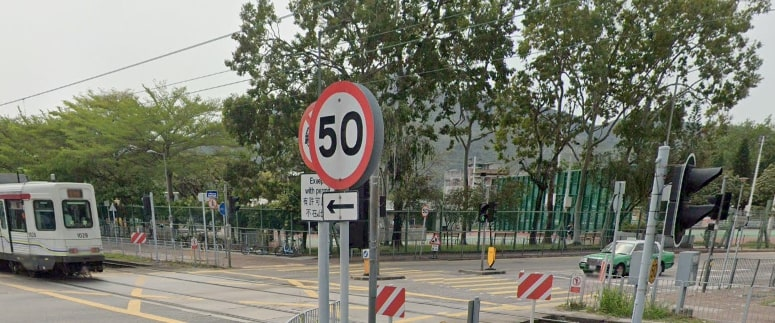Speed Limit: (309, 87, 383, 185)
